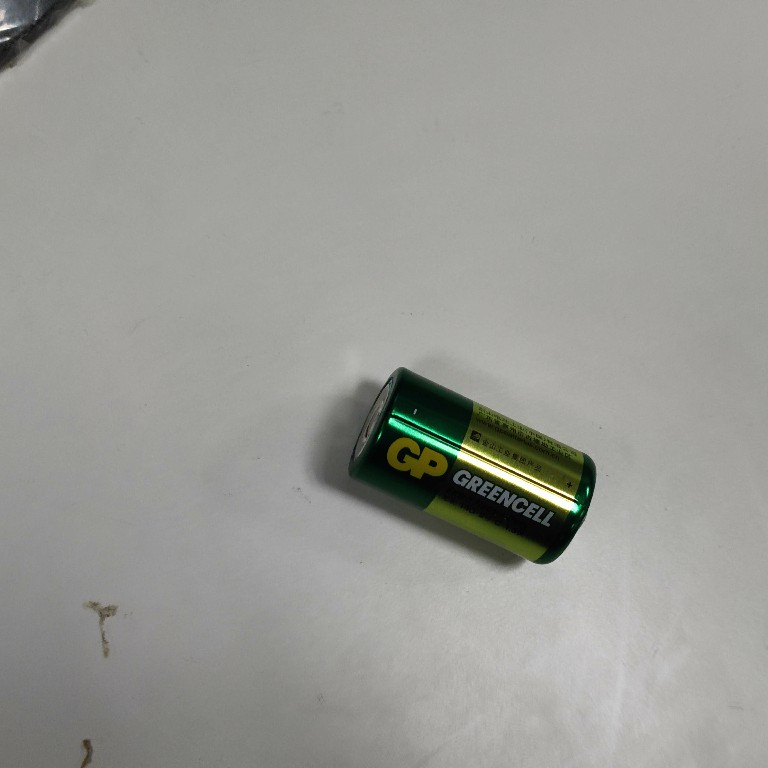charge: (342, 361, 601, 571)
